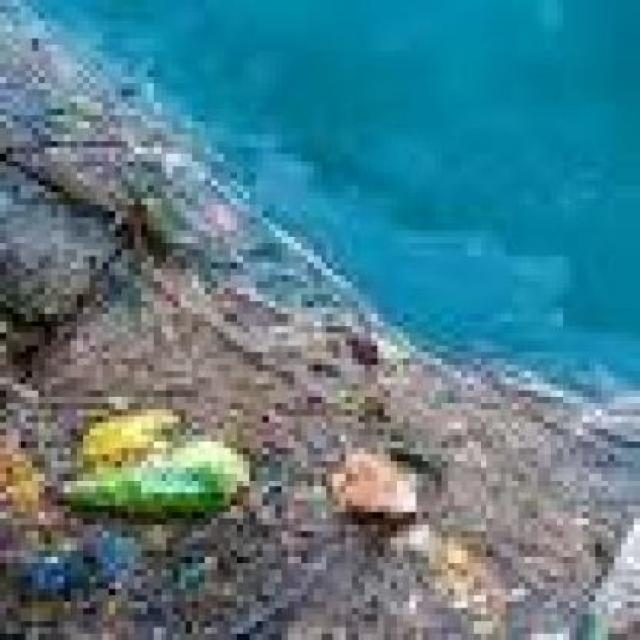garbage: (6, 28, 638, 640)
